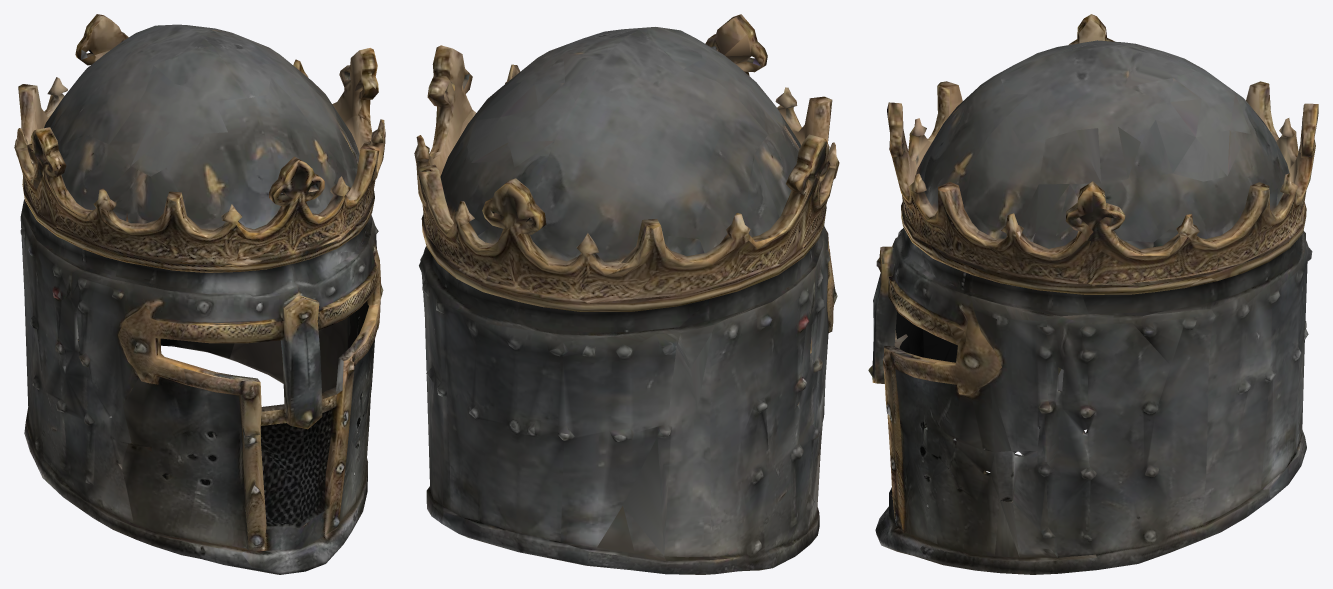
File: helm_t3_sovereign.glb
3 renders of one model, left to right at view 1: azimuth 30°, elevation 25°; view 2: azimuth 150°, elevation 25°; view 3: azimuth 270°, elevation 25°, orthographic. The views are drawn at different scales.
Parts seen in each view (by area): view 1: HelmT3Sovereign; view 2: HelmT3Sovereign; view 3: HelmT3Sovereign.
Boxes of the visible parts, x1,y1,x2,y2 form: HelmT3Sovereign: (14, 14, 385, 574); HelmT3Sovereign: (414, 14, 839, 574); HelmT3Sovereign: (868, 14, 1318, 574).
Size of the model in its own units: 0.2492 by 0.322 by 0.2697.
1 material, 1 textured.
